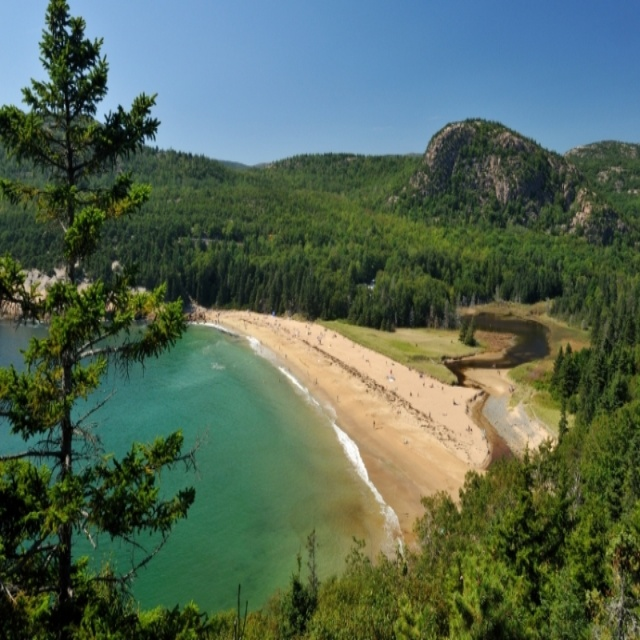linhaEspraiamento: (219, 367, 397, 513), (195, 328, 316, 395)
